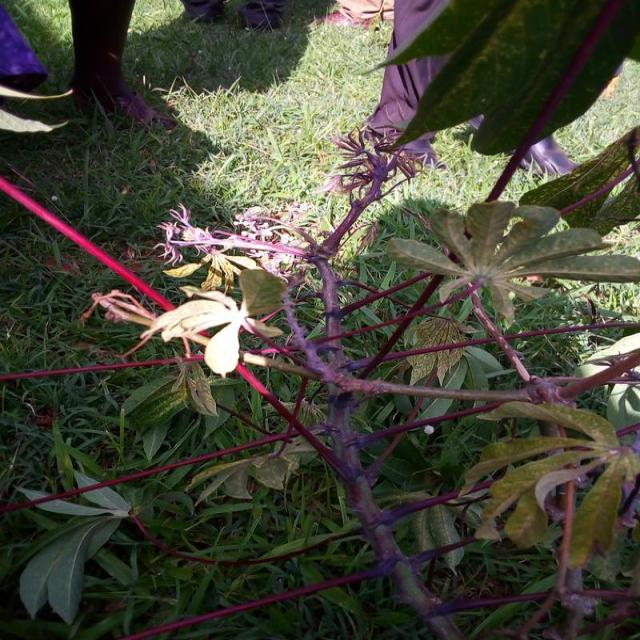cassava leaf: (368, 0, 638, 158), (385, 198, 638, 326)
